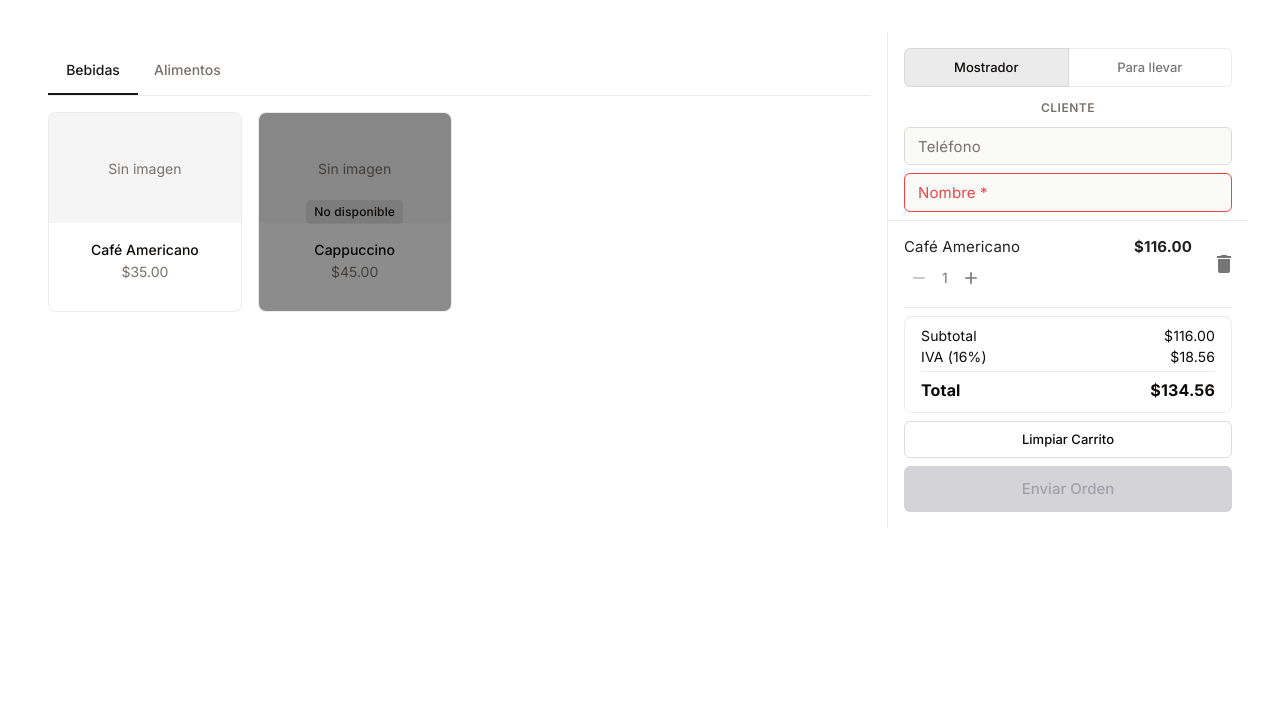
CashierPos — flujo COUNTER completo › al Enviar Orden aparece el formulario de cobro
The width and height of the screenshot is (1280, 720).
Type "Pedro" into the field named "nombre del cliente" at (1068, 193), box [904,173,1232,212]
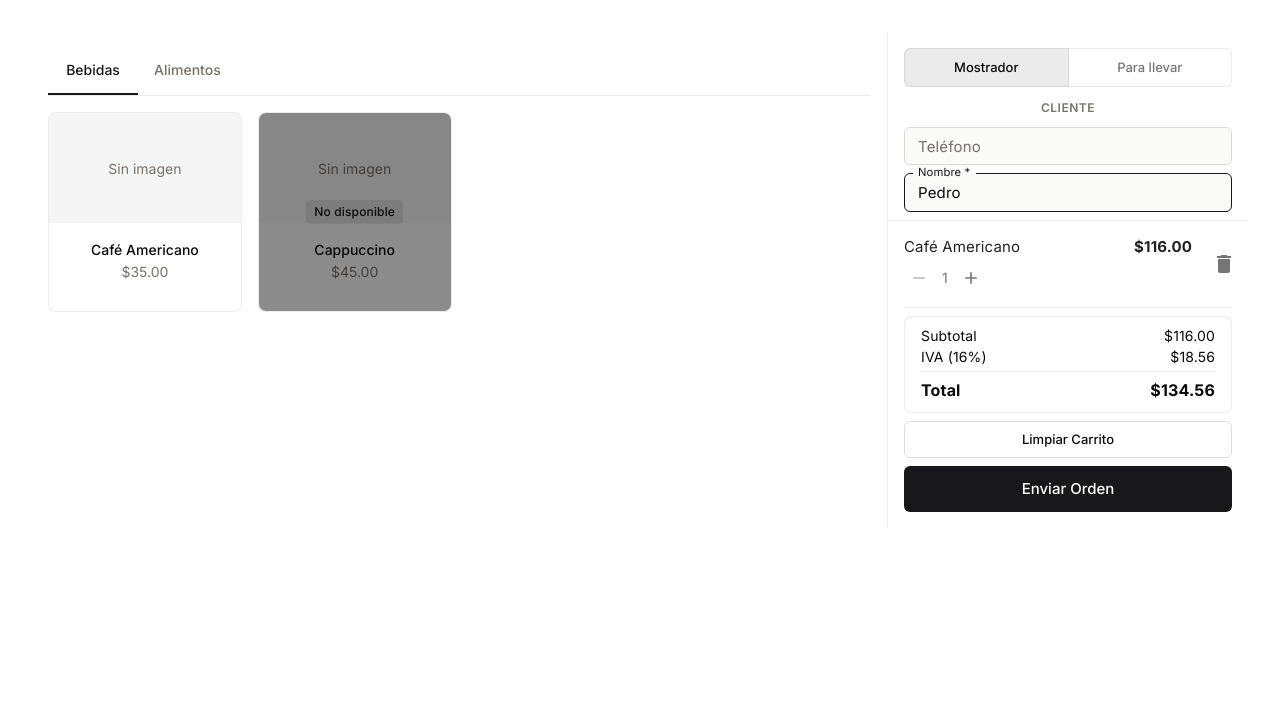
Click the button "Enviar Orden" at (1068, 489), box [904,466,1232,512]
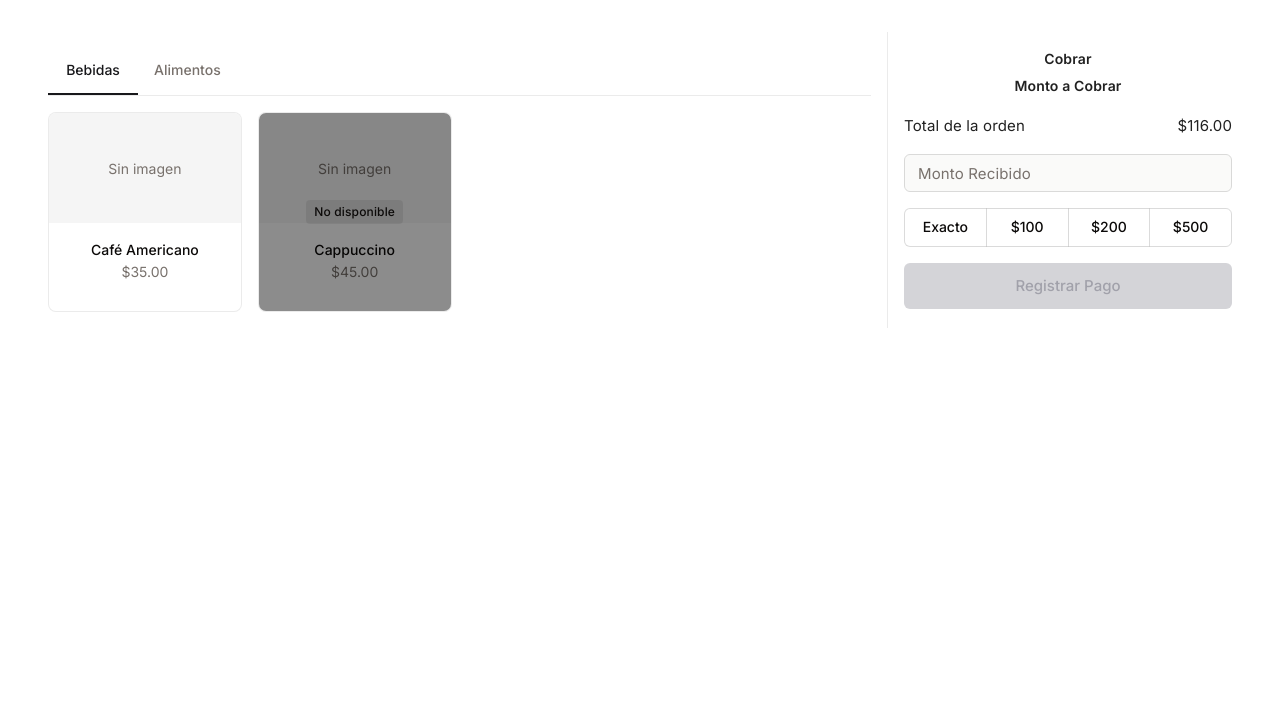
Check: the heading "Cobrar" is shown, box [1044,50,1092,67]
Check: the button "Registrar Pago" is shown, box [904,263,1232,309]
